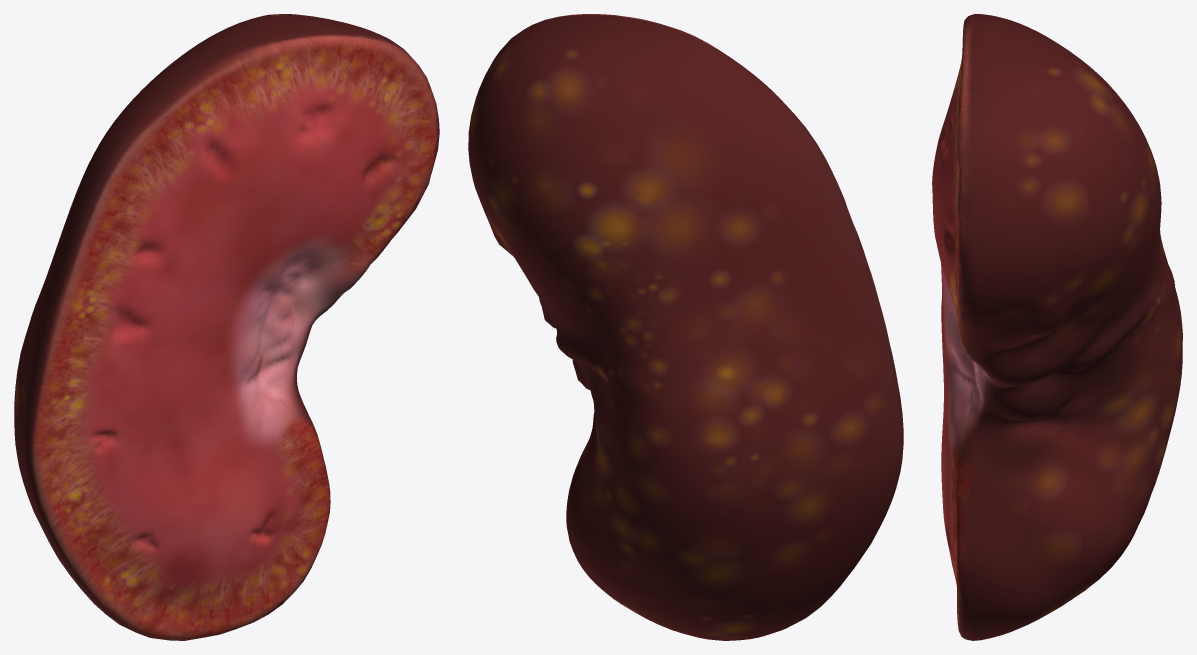
Rendered from 10_multifokal.glb.
3 views of the same model, side by side, from view 1: azimuth 30°, elevation 25°; view 2: azimuth 150°, elevation 25°; view 3: azimuth 270°, elevation 25° (orthographic). The views are drawn at different scales.
Visible parts, largest first — view 1: multifokal; view 2: multifokal; view 3: multifokal.
Boxes of the visible parts, x1=… form: multifokal: x1=14, y1=14, x2=439, y2=640; multifokal: x1=468, y1=14, x2=903, y2=640; multifokal: x1=932, y1=14, x2=1182, y2=640.
Bounding box in the file's own units: 0.5496 × 0.7451 × 0.274.
1 material, 1 textured.
